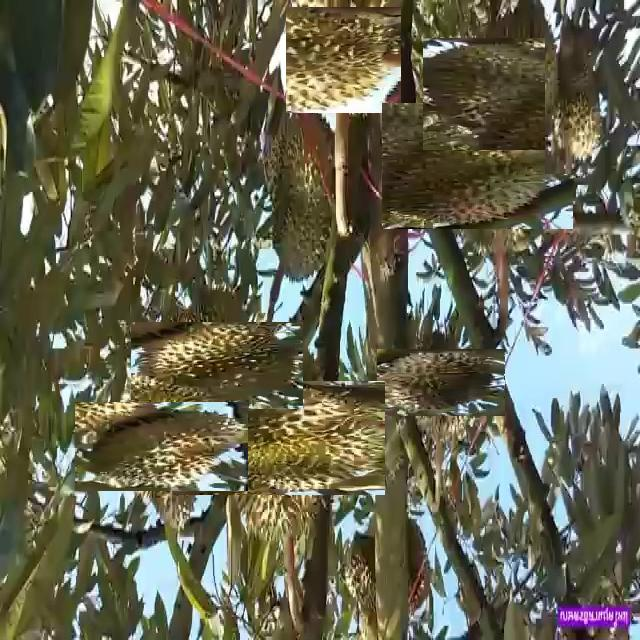durian: (197, 356, 360, 519), (398, 86, 556, 245), (437, 22, 579, 164), (96, 380, 227, 512), (152, 301, 282, 431), (261, 97, 347, 285), (287, 5, 399, 116), (338, 510, 434, 624), (392, 334, 490, 432), (545, 14, 604, 174)
